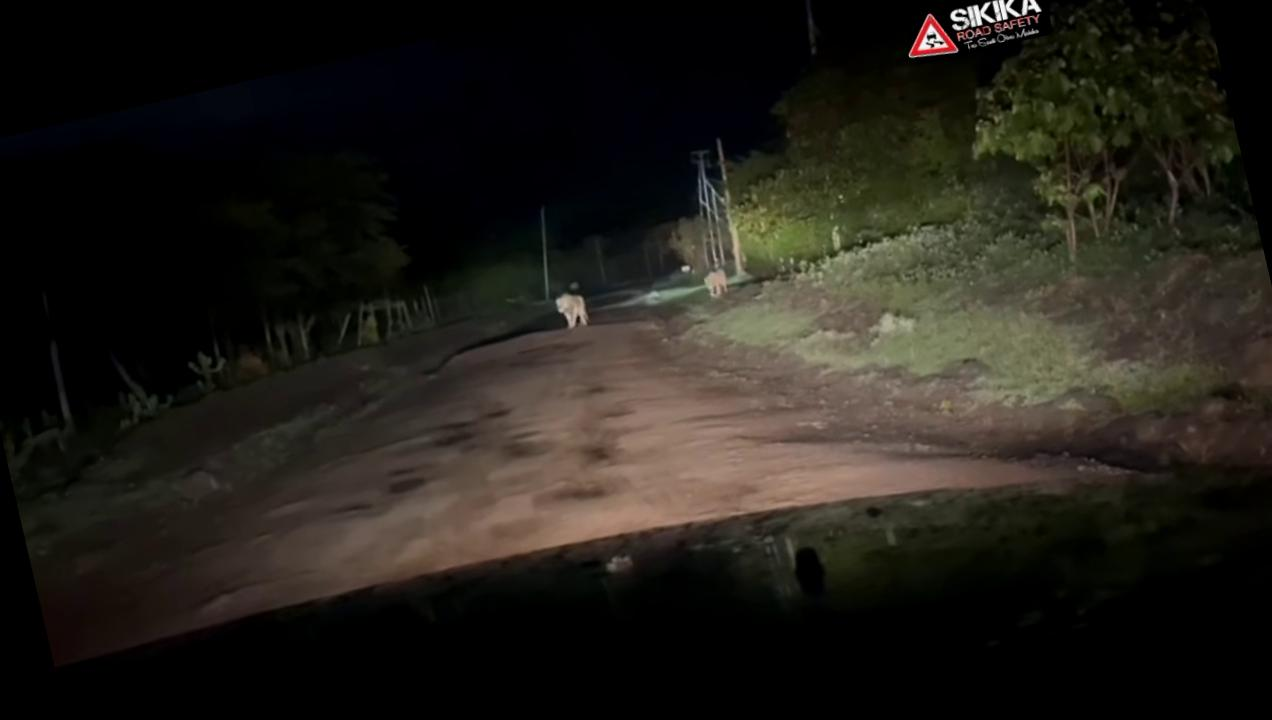lions: (540, 272, 610, 342)
